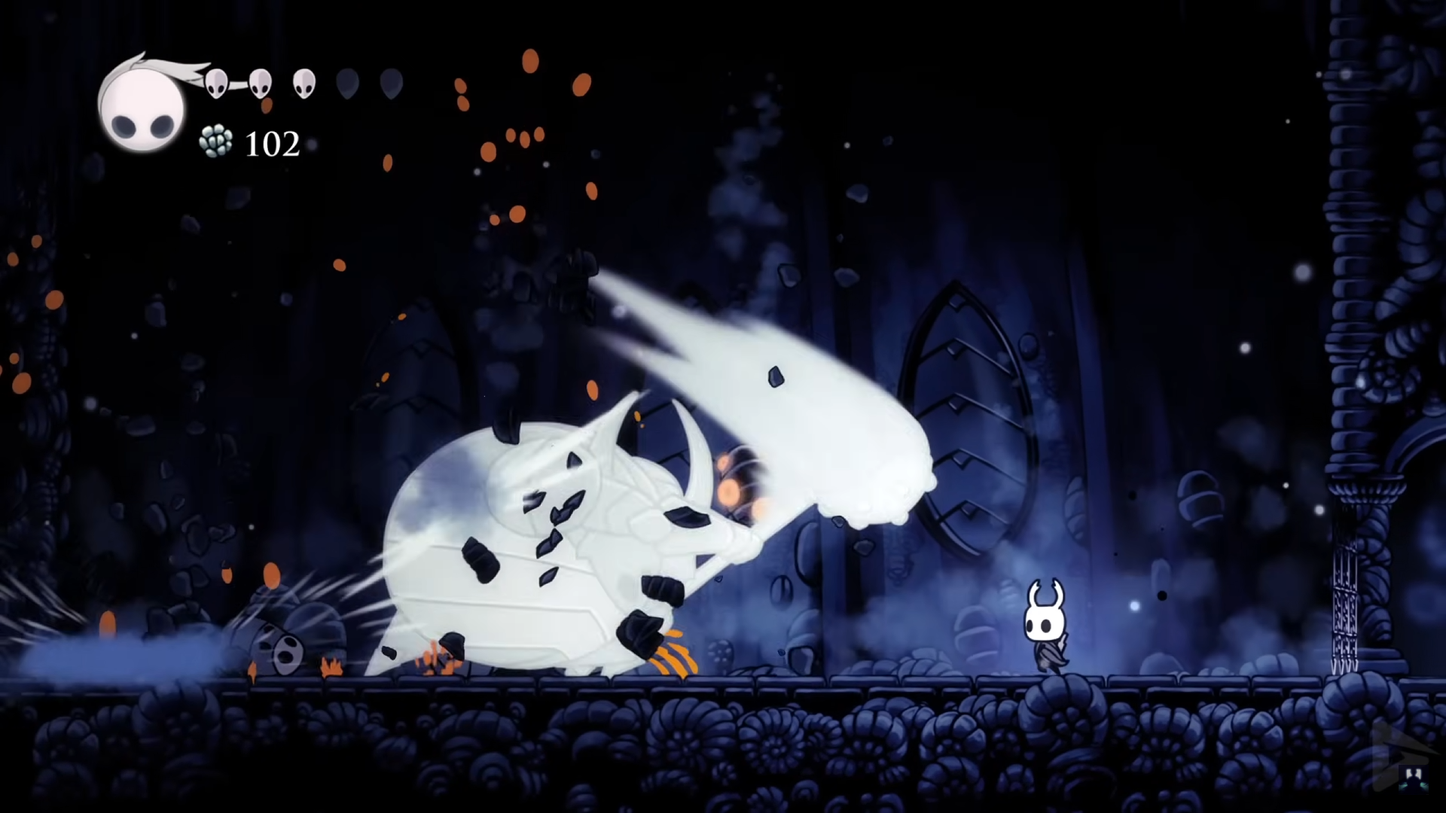HK: (1019, 574, 1076, 676)
